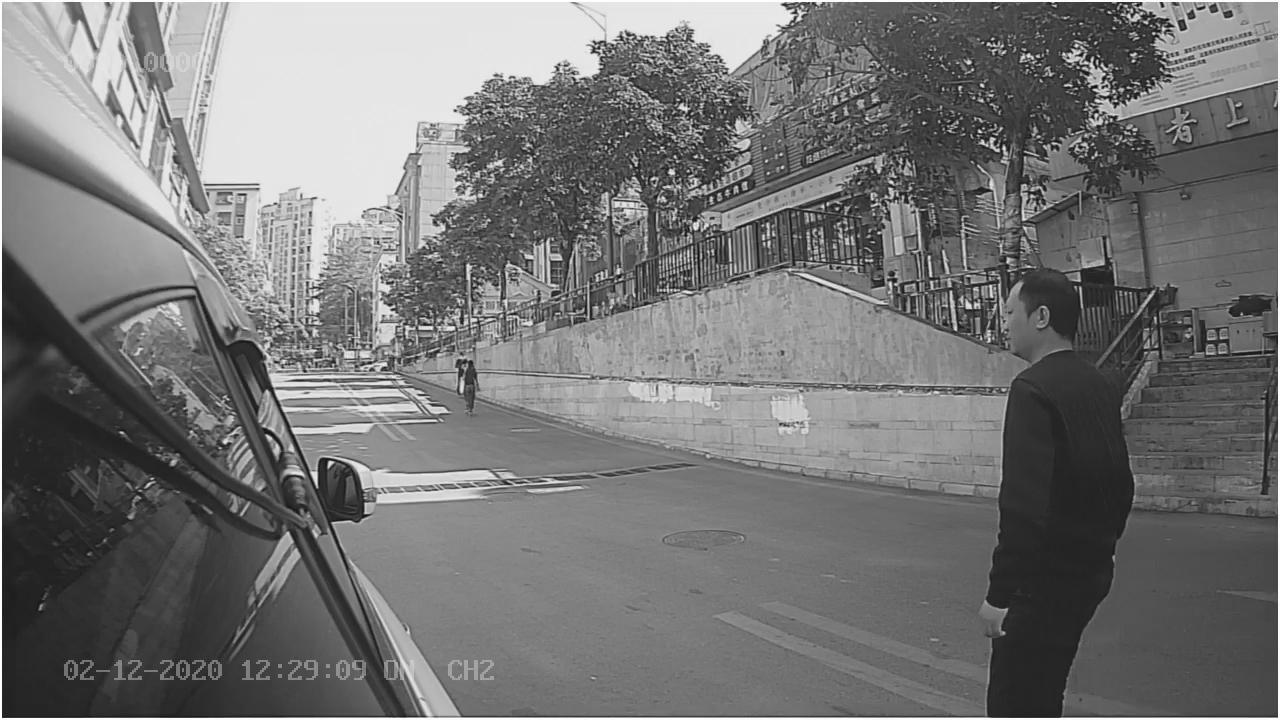person: (960, 260, 1145, 639)
